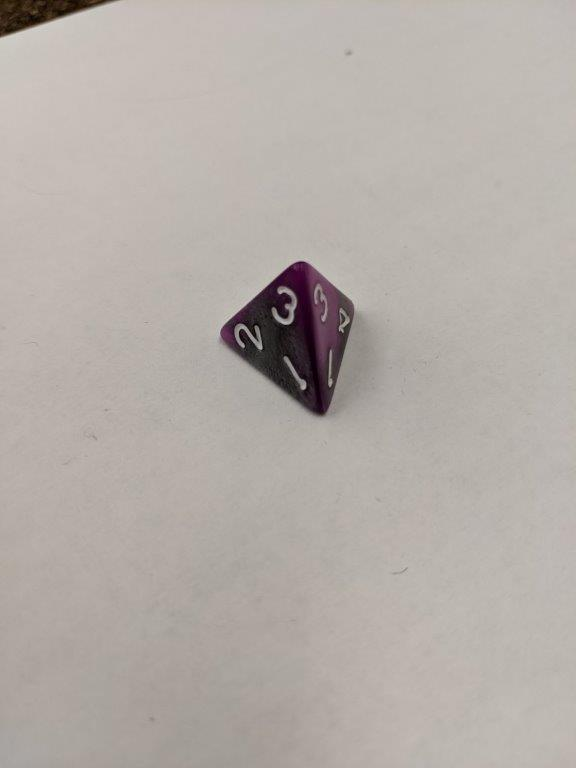d4-3: (217, 259, 359, 418)
